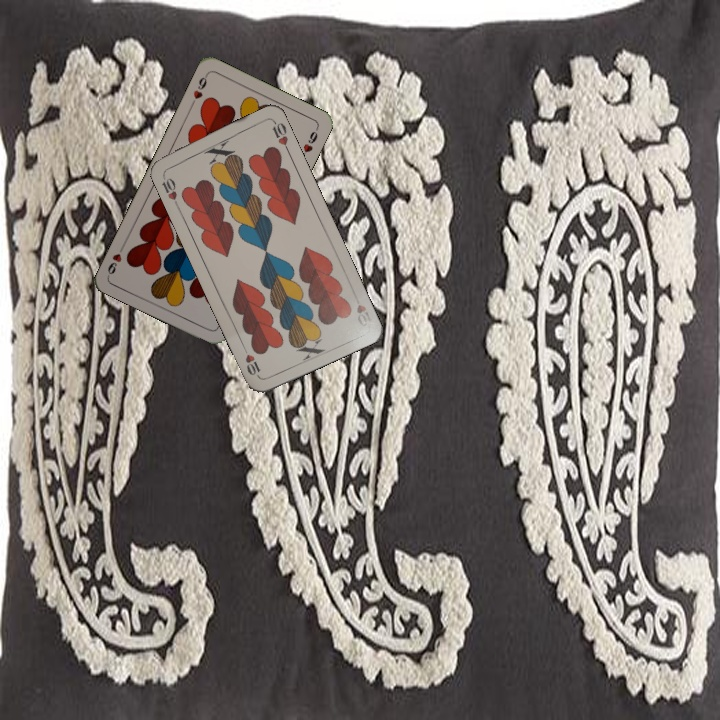H10: (349, 289, 375, 330), (158, 170, 181, 209)
H9: (187, 70, 210, 108)
